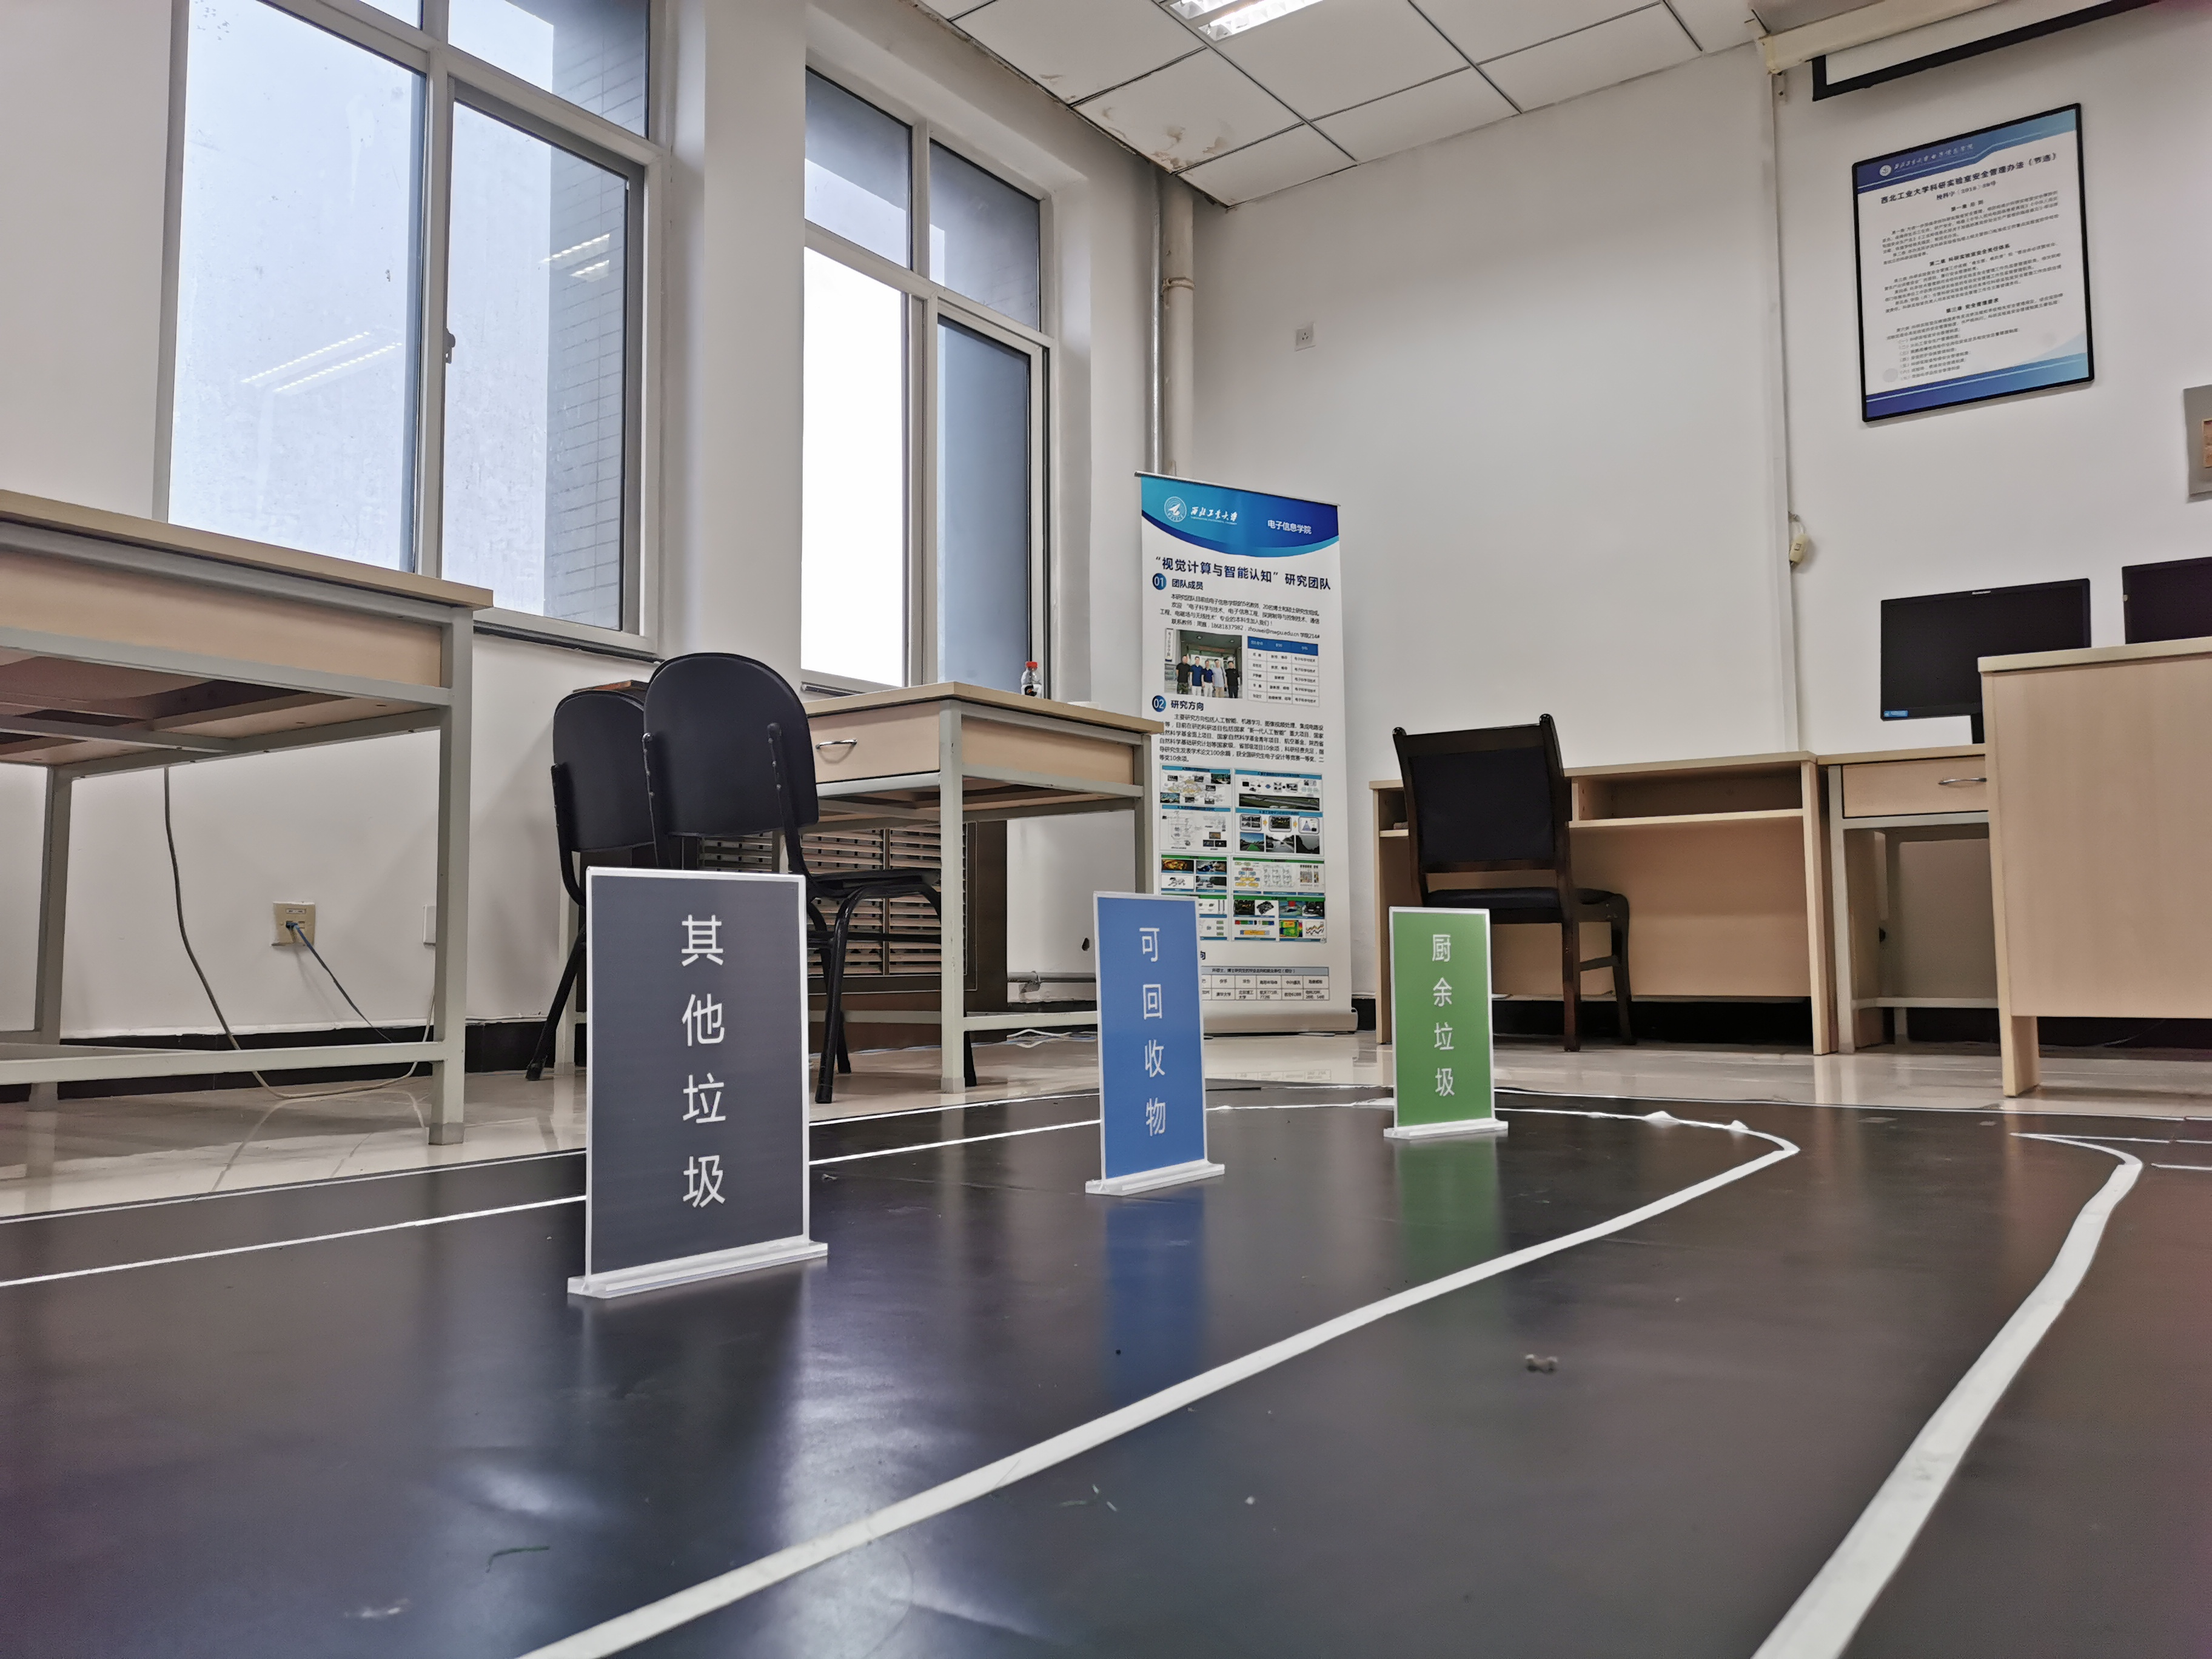black: (594, 887, 798, 1229)
blue: (1108, 910, 1191, 1154)
green: (1397, 918, 1486, 1110)
